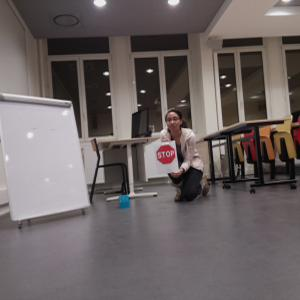big: (1, 92, 91, 224)
small: (119, 194, 131, 208)
